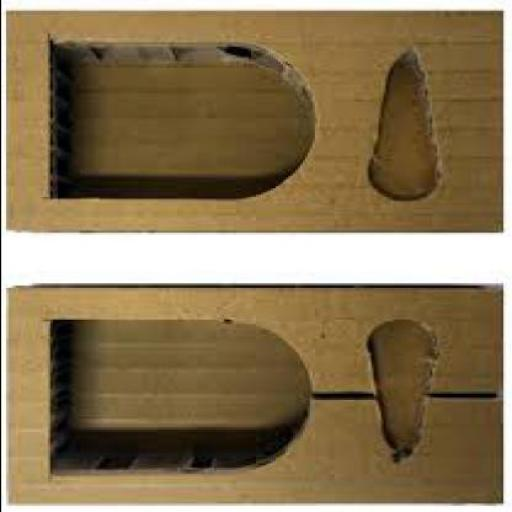cardboard: (2, 281, 500, 502), (5, 9, 500, 230)
